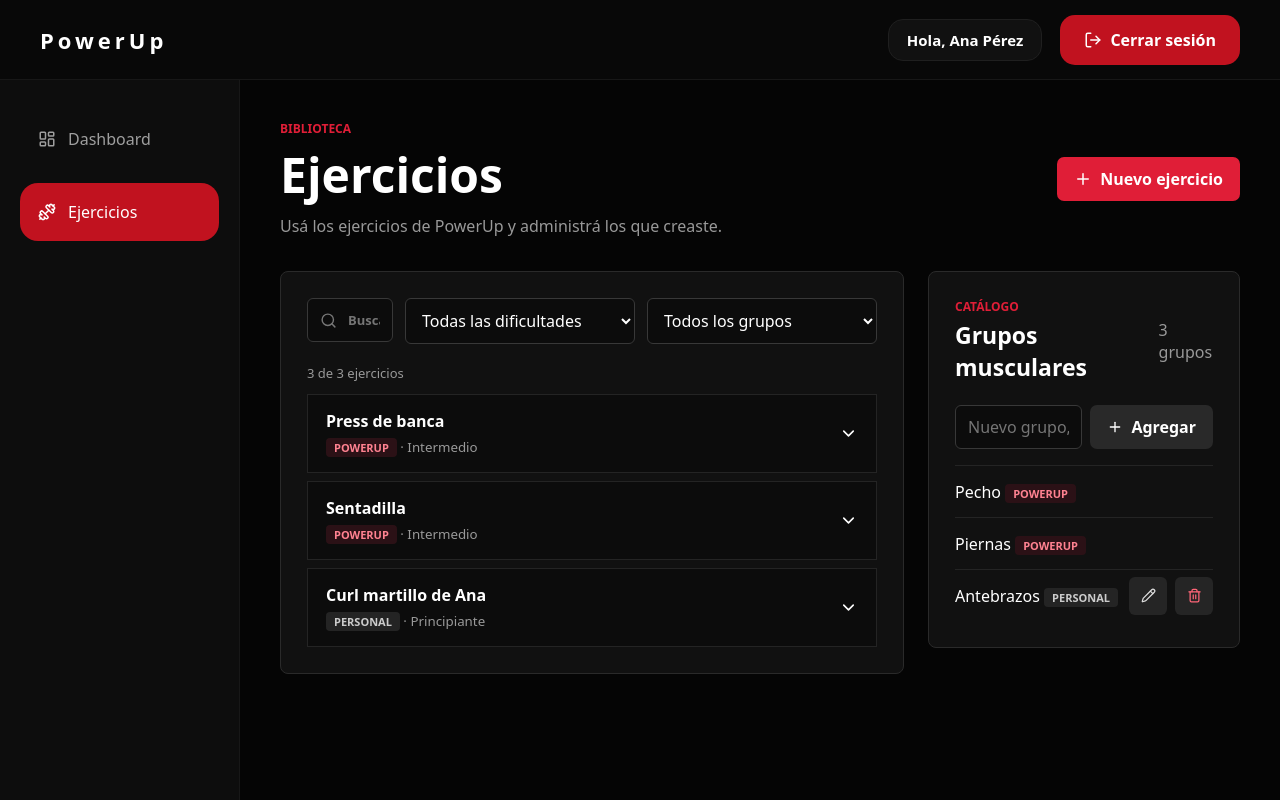
grupos musculares › crea, renombra y elimina un grupo personal
In the field named "Nombre del nuevo grupo muscular": (1019, 427) [955,405,1082,449], type "Cuello"
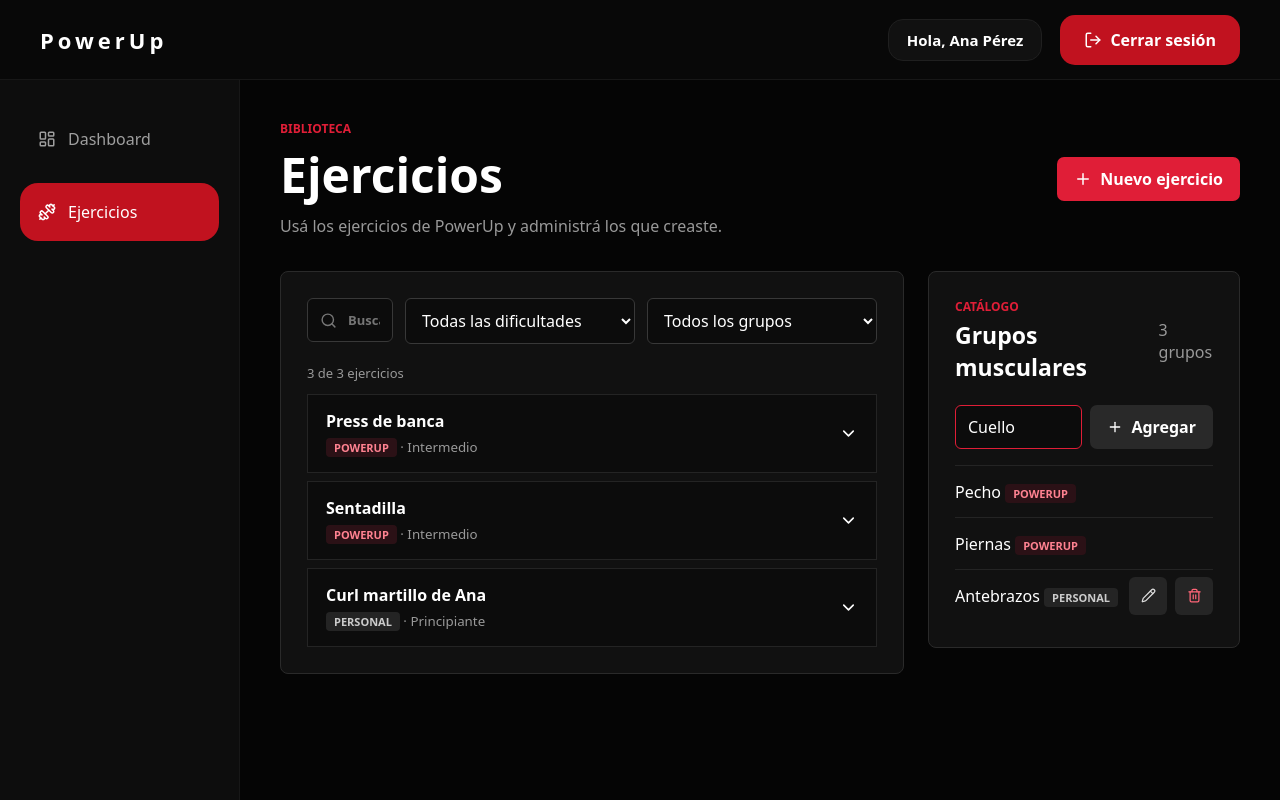
Click the button "Agregar": (1152, 427) [1090,405,1213,449]
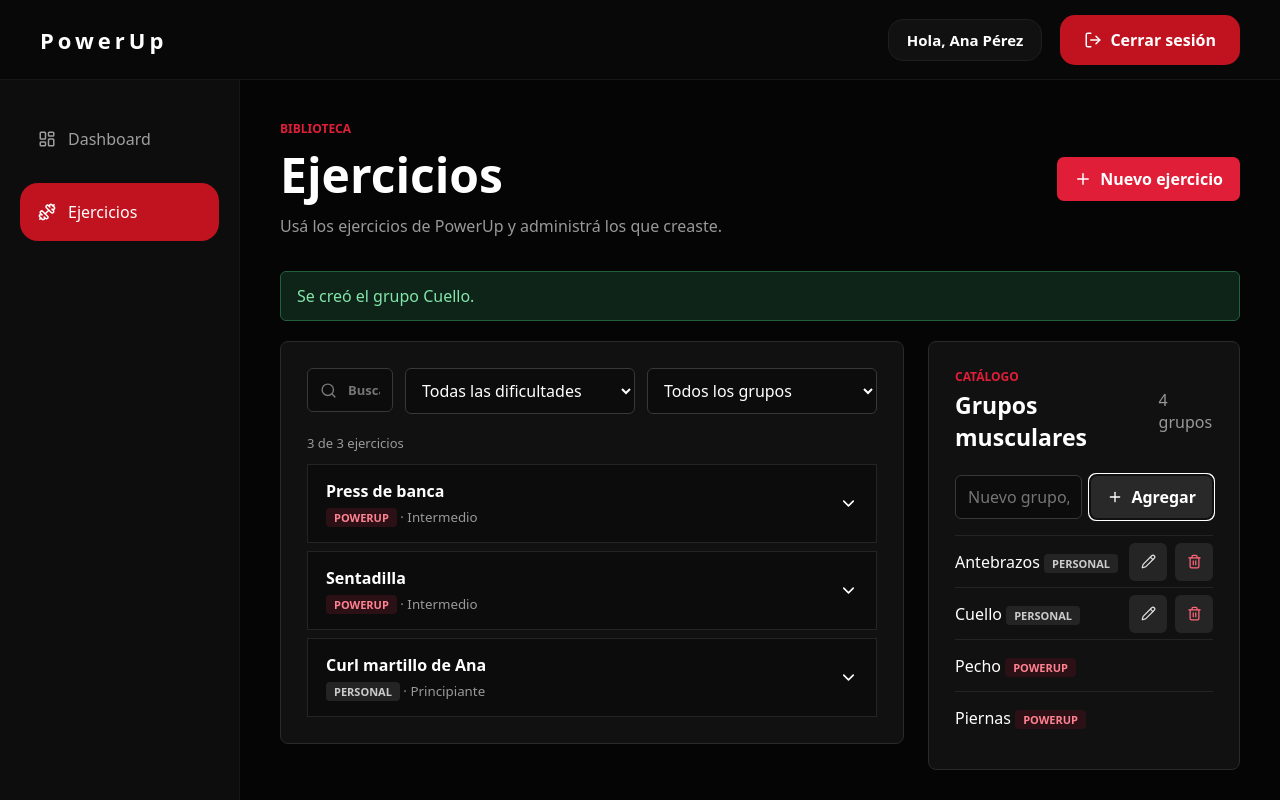
Expected: the text "Se creó el grupo Cuello." is shown, [280,271,1240,321]
Click the button named "Renombrar Antebrazos": (1148, 562) [1129,542,1167,580]
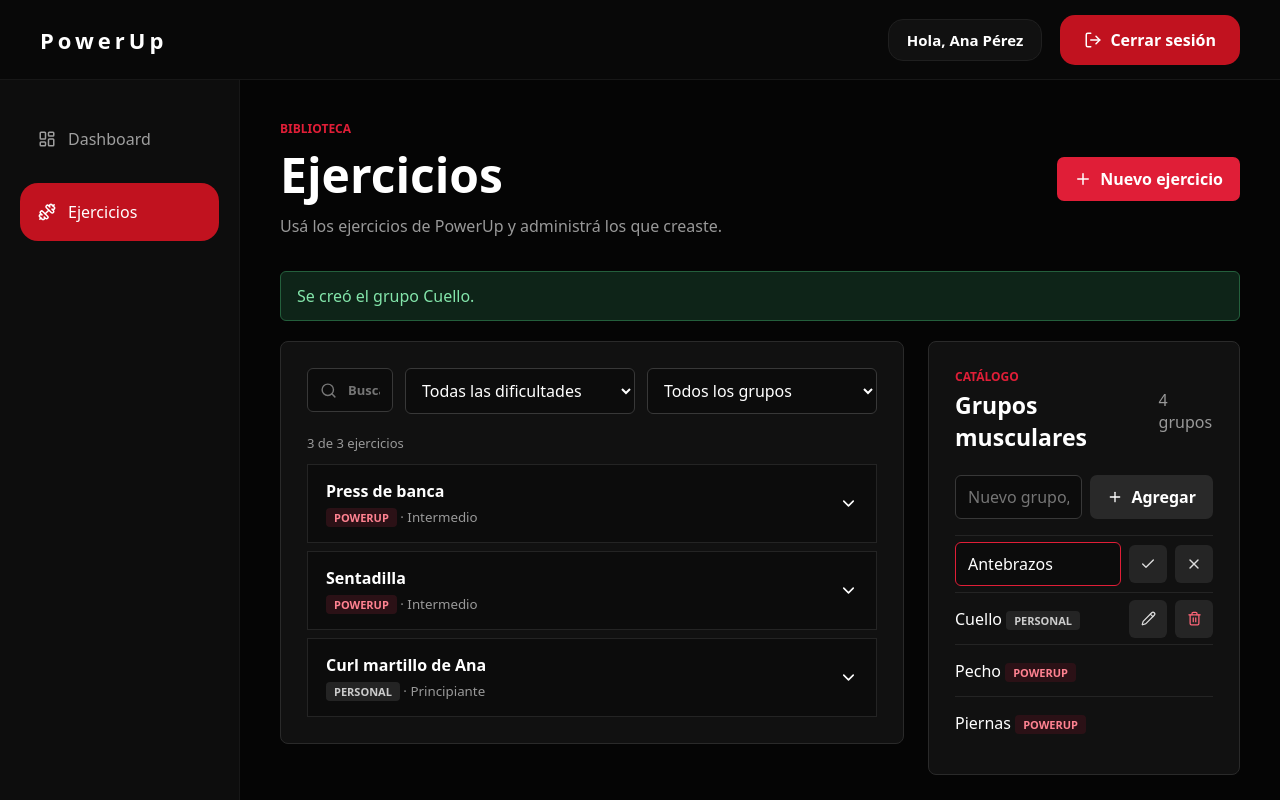
Replace the text in the field named "Nuevo nombre para Antebrazos" with "Antebrazo": (1038, 564) [955,542,1121,586]
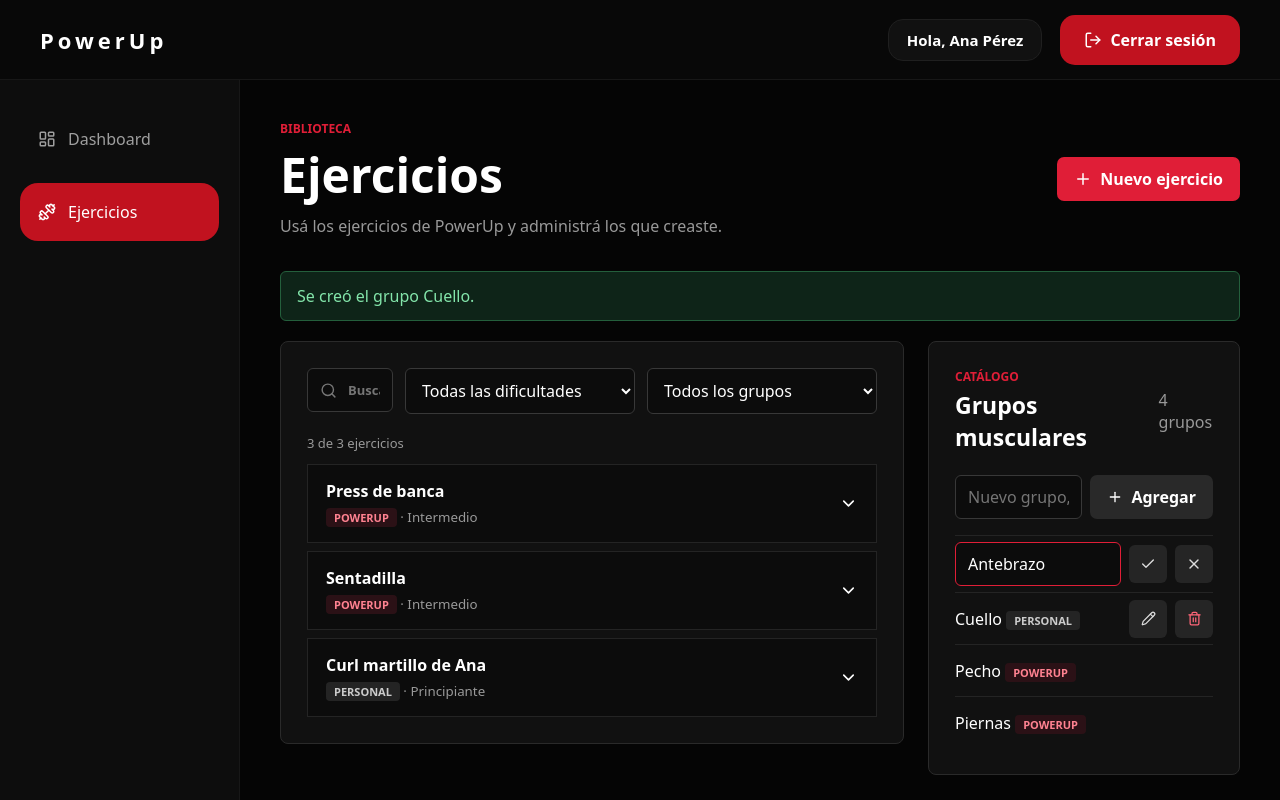
Click the button named "Guardar nombre": (1148, 564) [1129,545,1167,583]
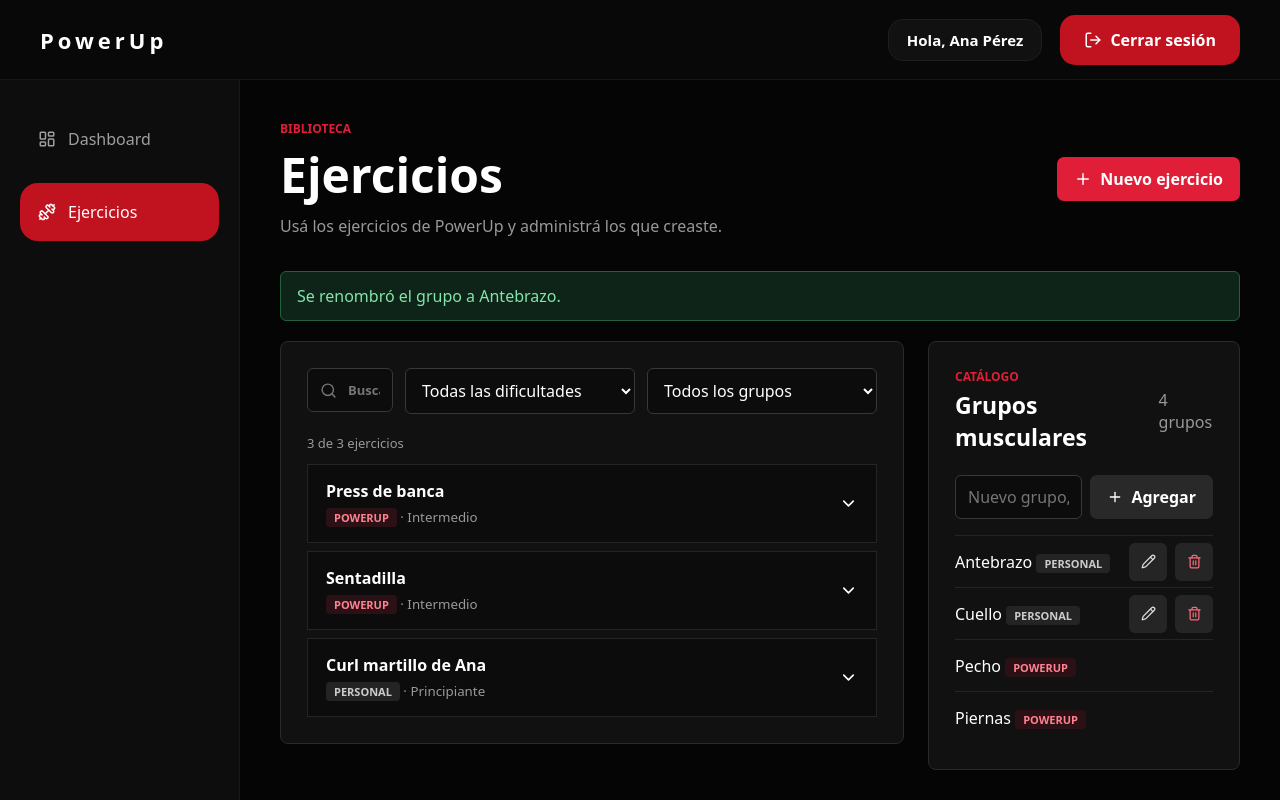
Expected: the text "Se renombró el grupo a Antebrazo." is shown, [280,271,1240,321]
Click the button named "Eliminar grupo Cuello": (1194, 614) [1175,594,1213,632]
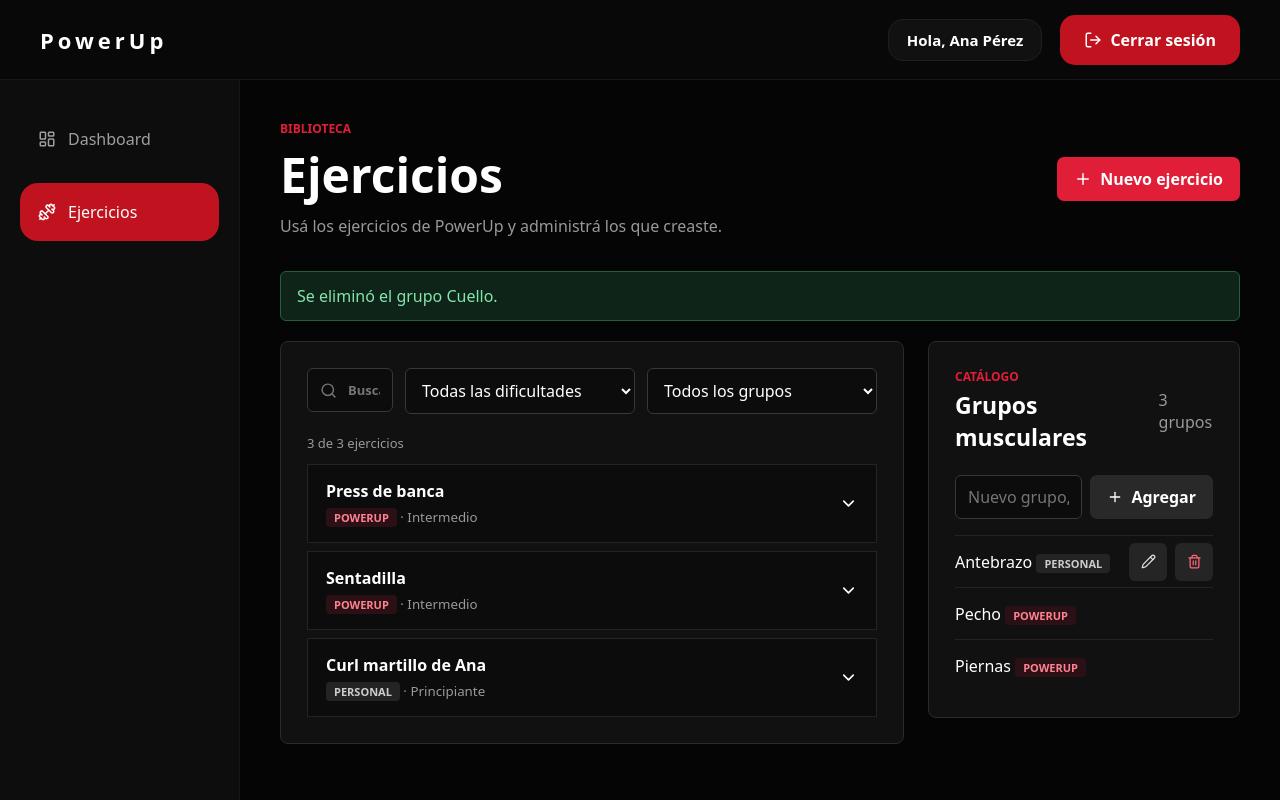
Expected: the text "Se eliminó el grupo Cuello." is shown, [280,271,1240,321]
